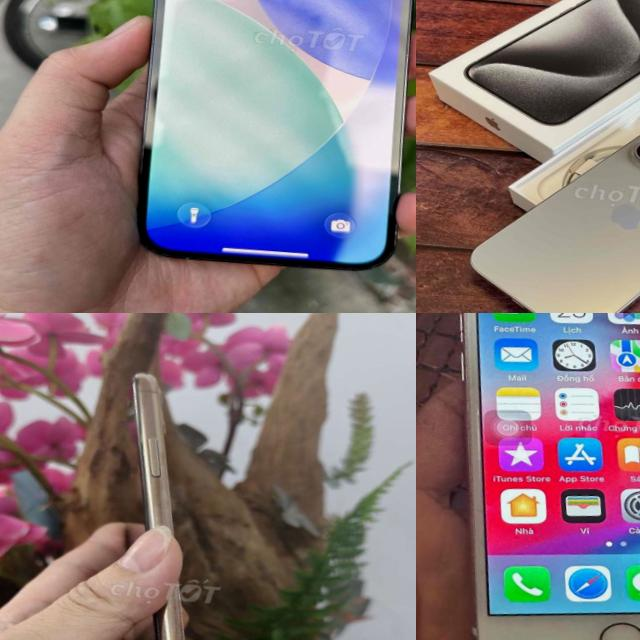gen_11: (84, 358, 235, 640)
gen_12_13: (122, 0, 416, 284)
gen_15: (460, 102, 640, 313)
gen_7_8: (416, 313, 640, 640)
